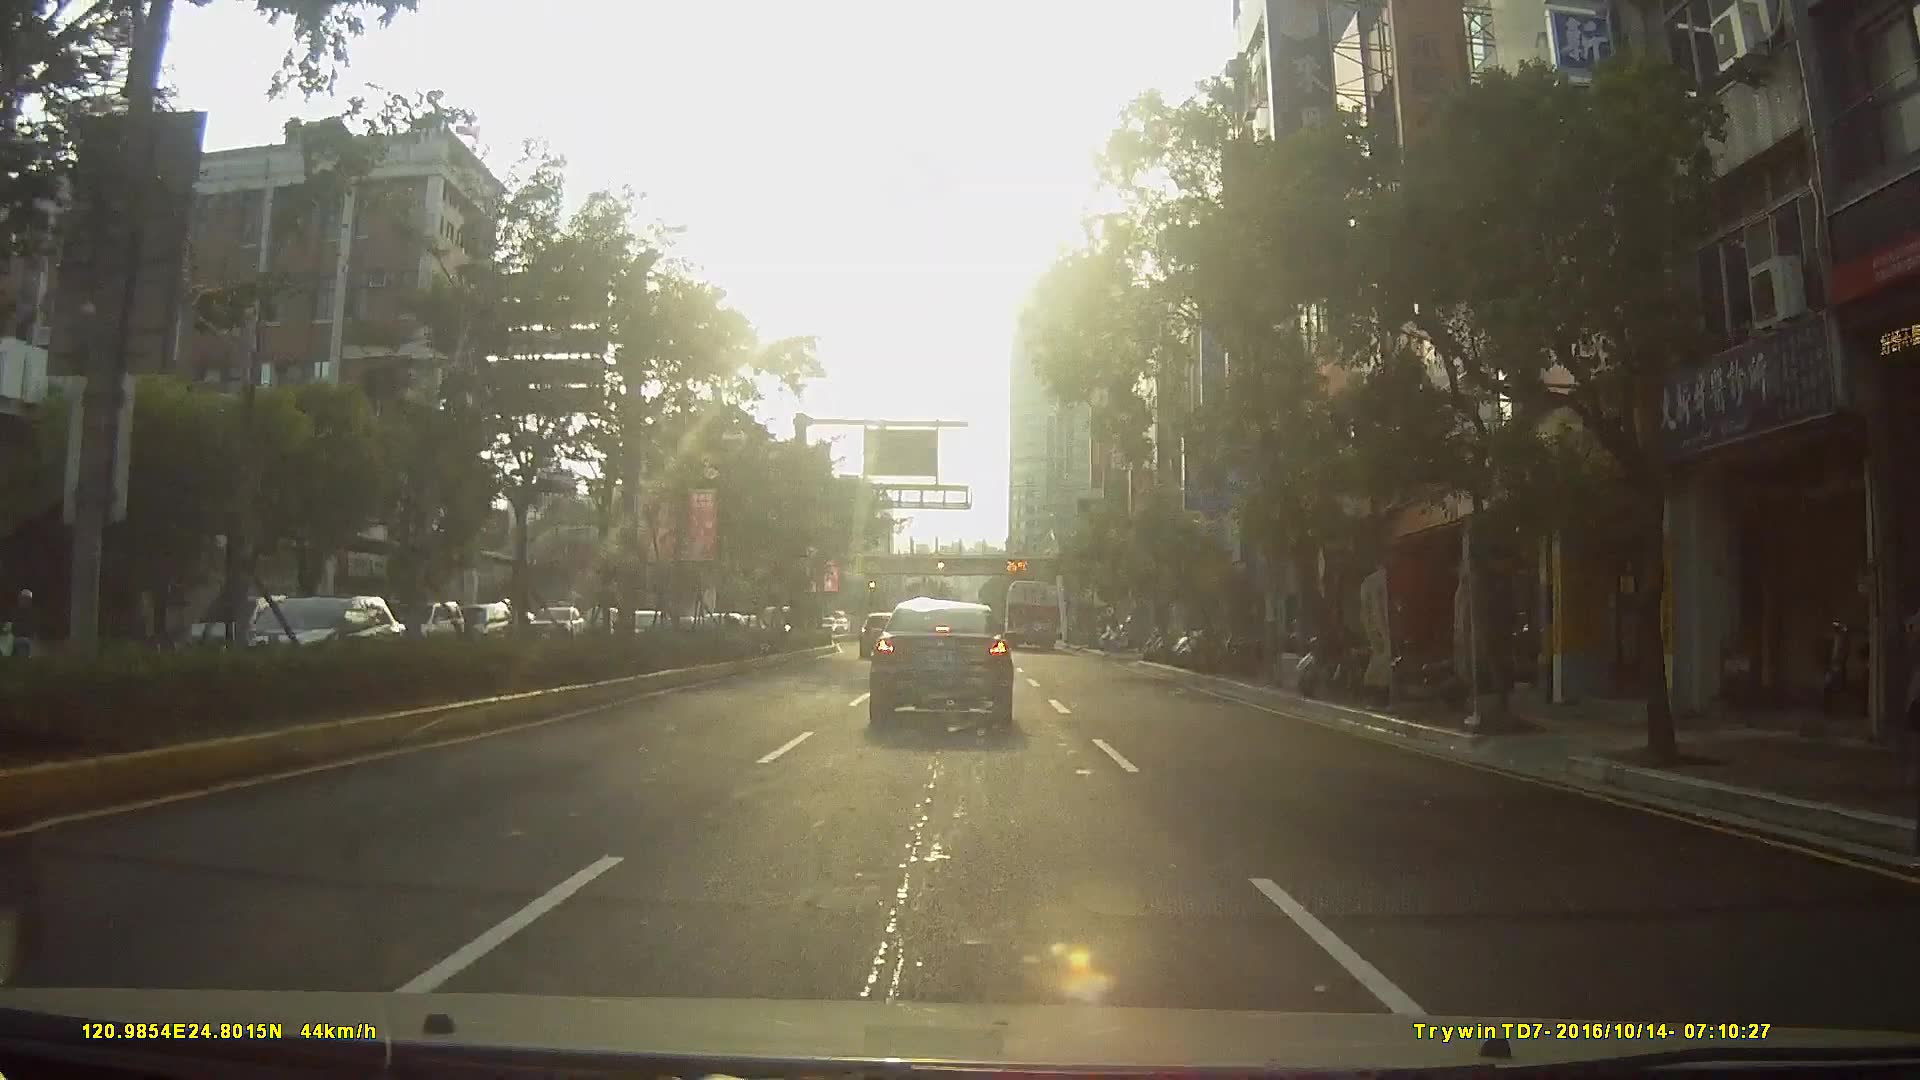pedestrian: (1901, 558, 1920, 848)
vehicle: (865, 598, 1015, 727), (216, 592, 415, 689), (180, 594, 297, 666), (1000, 578, 1061, 649), (396, 601, 462, 650), (446, 601, 510, 650), (526, 607, 583, 645), (858, 611, 900, 659)
